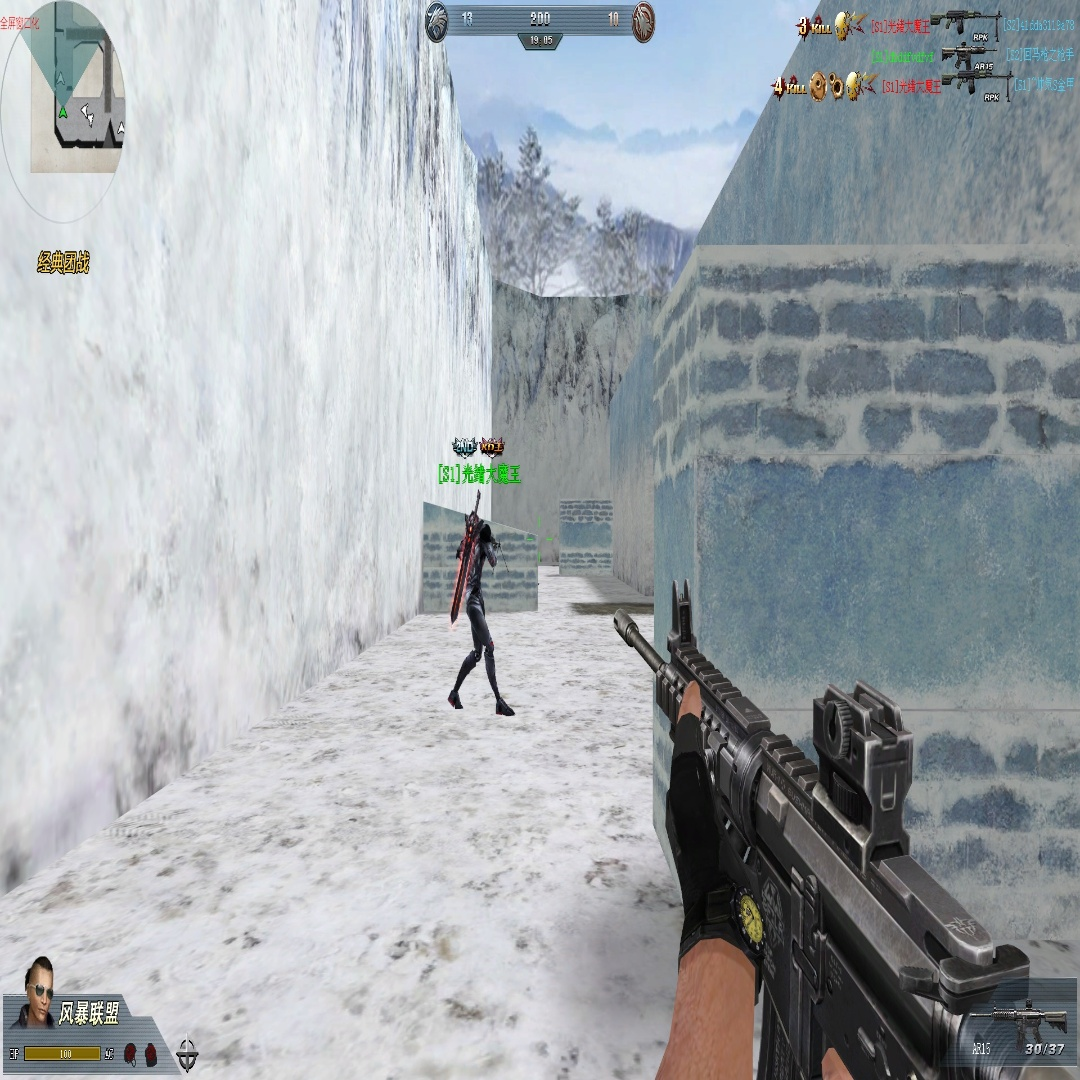t: (448, 516, 514, 715)
